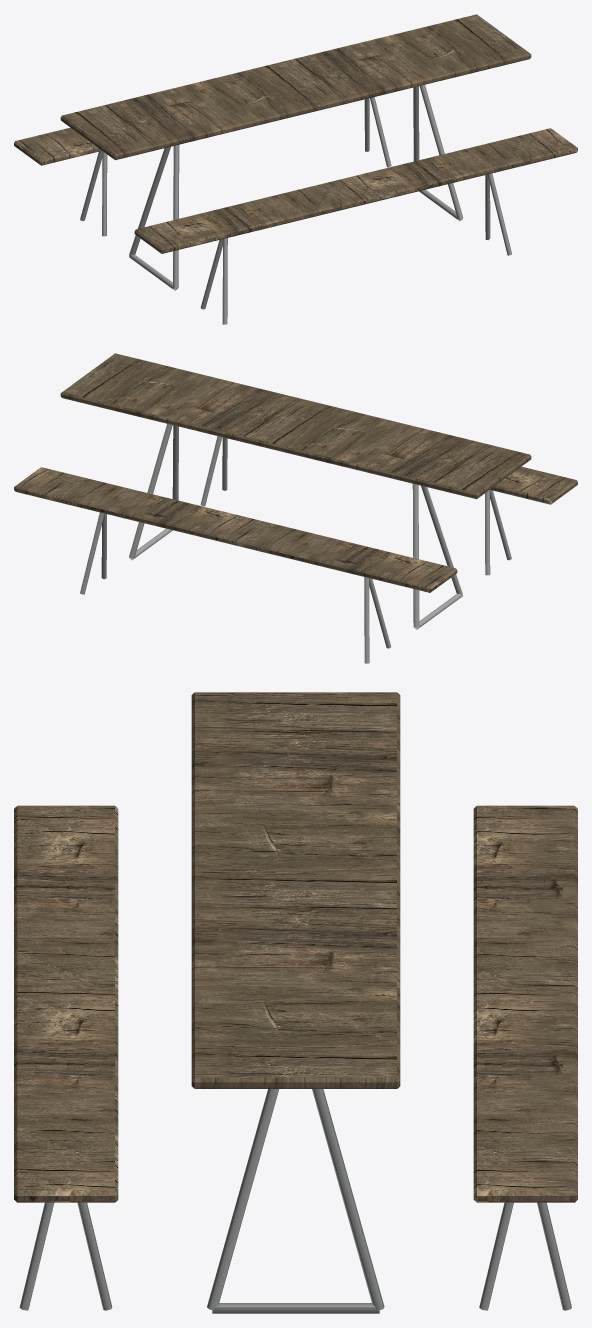
File: beer-bench-set.glb
3 views of the same model, one above another, from view 1: azimuth 30°, elevation 25°; view 2: azimuth 150°, elevation 25°; view 3: azimuth 270°, elevation 25° (orthographic). The views are drawn at different scales.
Visible parts, largest first — view 1: beer-bench-set; view 2: beer-bench-set; view 3: beer-bench-set.
Part boxes in pixels (left/top/right/bottom): beer-bench-set: left=14, top=14, right=577, bottom=324; beer-bench-set: left=14, top=353, right=577, bottom=663; beer-bench-set: left=14, top=692, right=577, bottom=1313.
Size of the model in its own units: 2.2 by 0.7837 by 1.35.
2 materials, 1 textured.
